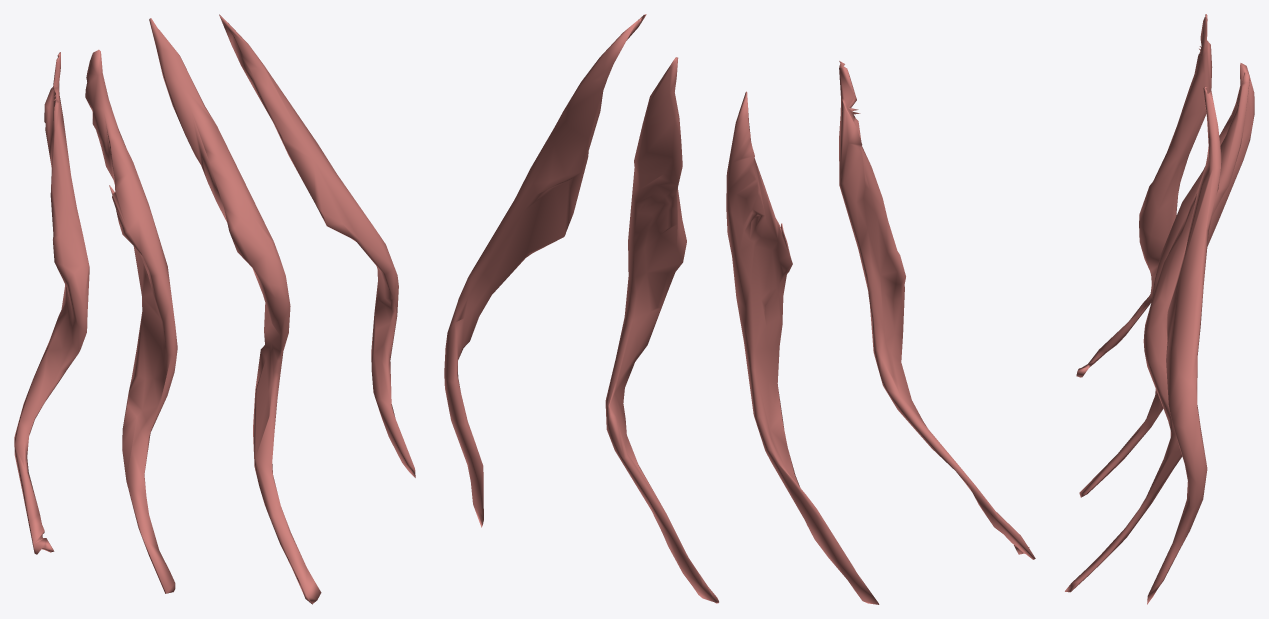
3 views of the same model, side by side, from view 1: azimuth 30°, elevation 25°; view 2: azimuth 150°, elevation 25°; view 3: azimuth 270°, elevation 25° (orthographic). The views are drawn at different scales.
Visible parts, largest first — view 1: ZA_435ad9b7eb2c63ef; view 2: ZA_435ad9b7eb2c63ef; view 3: ZA_435ad9b7eb2c63ef.
Part boxes in pixels (x1,y1,x2,y2): ZA_435ad9b7eb2c63ef: [14, 14, 415, 604]; ZA_435ad9b7eb2c63ef: [444, 14, 1035, 604]; ZA_435ad9b7eb2c63ef: [1065, 14, 1254, 604].
Size of the model in its own units: 0.0758 by 0.0929 by 0.0321.
